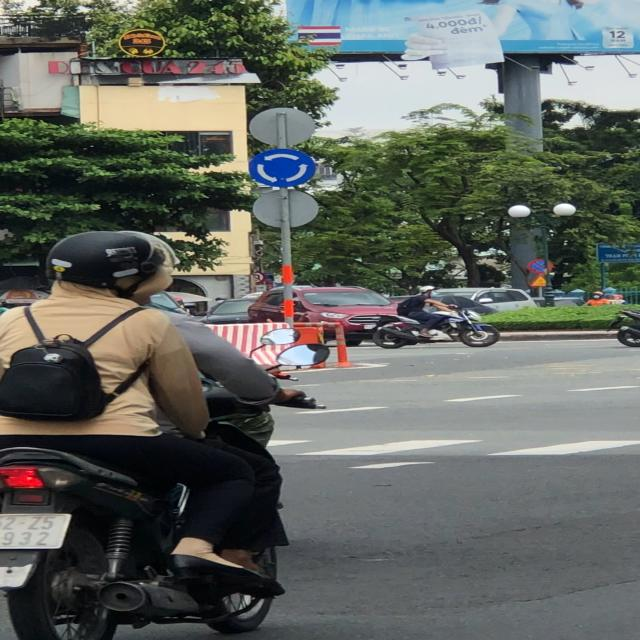Bien bao noi giao nhau chay theo vong xuyen: (248, 146, 317, 190)
